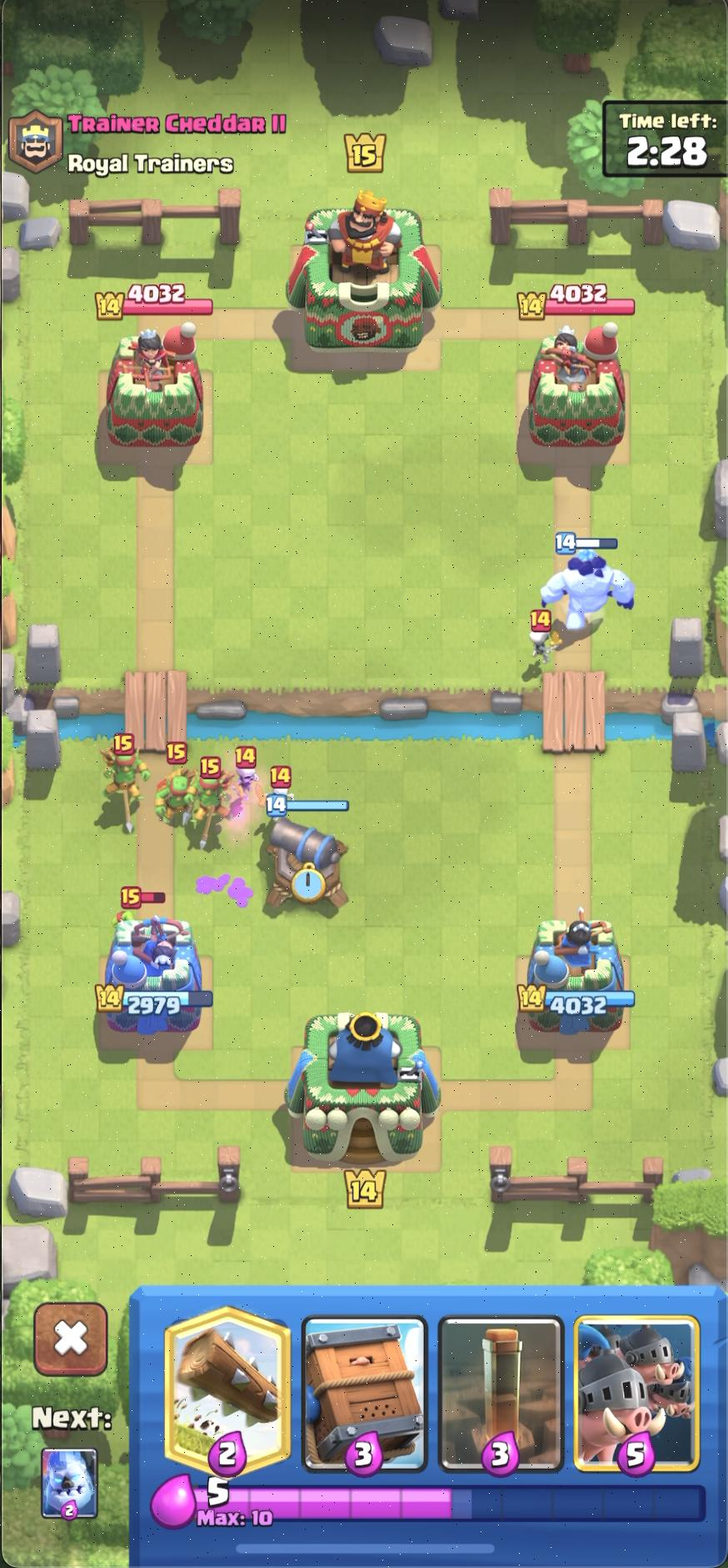card_earthquake: (437, 1313, 563, 1475)
card_icegolem: (38, 1446, 102, 1524)
card_log: (159, 1302, 297, 1478)
card_royaldelivery: (303, 1311, 428, 1476)
card_royalhogs: (571, 1313, 702, 1477)
